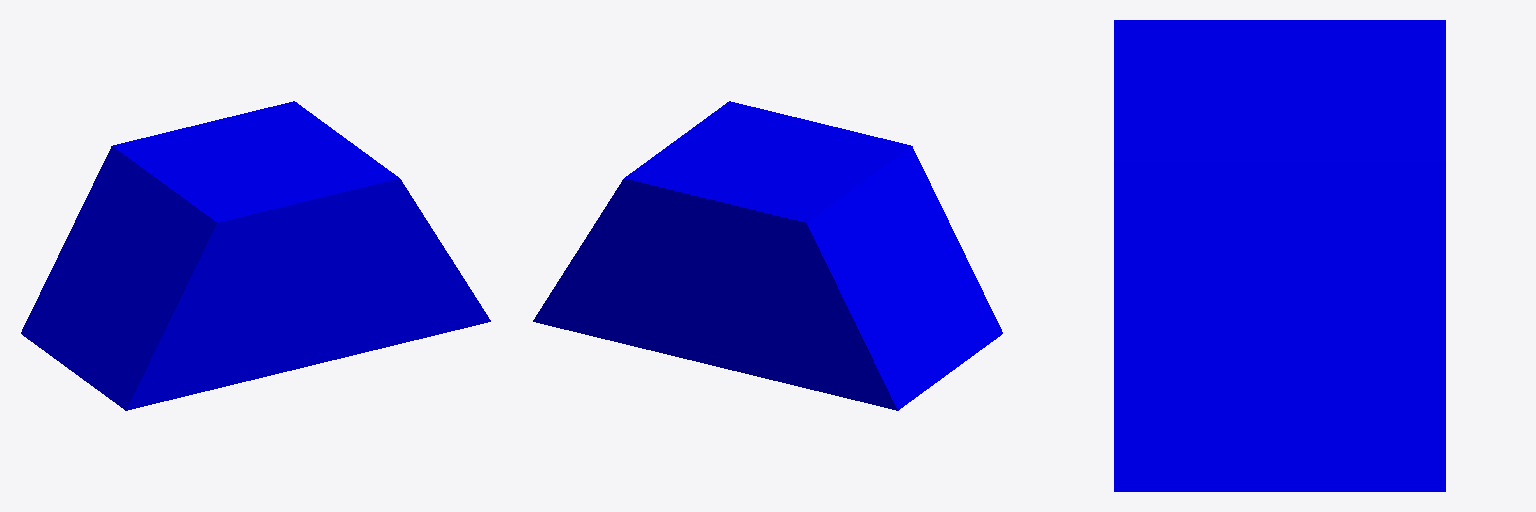
The robot description file, URDF, robot "block_t":
<?xml version="1.0"?>
<robot name="block_t">
  <link concave="no" name="block_t_base_link">
    <contact>
      <lateral_friction value="0.7"/>
      <spinning_friction value=".001"/>
    </contact>
    <inertial>
      <origin rpy="0 0 0" xyz="0 0 0"/>
      <mass value="0.389711"/>
      <inertia ixx="0.00014" ixy="0" ixz="0" iyy="0.000262" iyz="0" izz="0.000284"/>
    </inertial> 
    <visual>
      <origin rpy="0 0 0" xyz="0.0 0.0 0.0"/>
      <geometry>
        <mesh filename="package://blocks/trapezoid.stl"/>
      </geometry>
      <material name="blockmat">
        <color rgba="0 0 1 1"/>
      </material>
    </visual>
    <collision>
      <origin rpy="0 0 0" xyz="0.0 0.0 0.0"/>
      <geometry>
        <mesh filename="package://blocks/trapezoid.stl"/>
      </geometry>
    </collision>
    <inertial>
        <mass value="10"/>
        <inertia ixx="0.4" ixy="0.0" ixz="0.0" iyy="0.4" iyz="0.0" izz="0.2"/>
    </inertial>
  </link>
</robot>

--- Facts derived from the render (not from the file) ---
The picture shows the robot from 3 angles, left to right: view 1: azimuth 30°, elevation 25°; view 2: azimuth 150°, elevation 25°; view 3: azimuth 270°, elevation 25°; orthographic projection.
Model block_t with 1 links and 0 joints (none), rooted at block_t_base_link, posed every joint at zero.
Links seen in each view (by area): view 1: block_t_base_link; view 2: block_t_base_link; view 3: block_t_base_link.
Link boxes in pixels (x1,y1,x2,y2): block_t_base_link: (21, 101, 490, 410); block_t_base_link: (533, 101, 1002, 410); block_t_base_link: (1114, 20, 1445, 491).
Bounding box of the posed robot: 0.1 × 0.05 × 0.0433 m (x, y, z).
1 mesh visuals loaded from 1 distinct referenced files (1 binary STL).